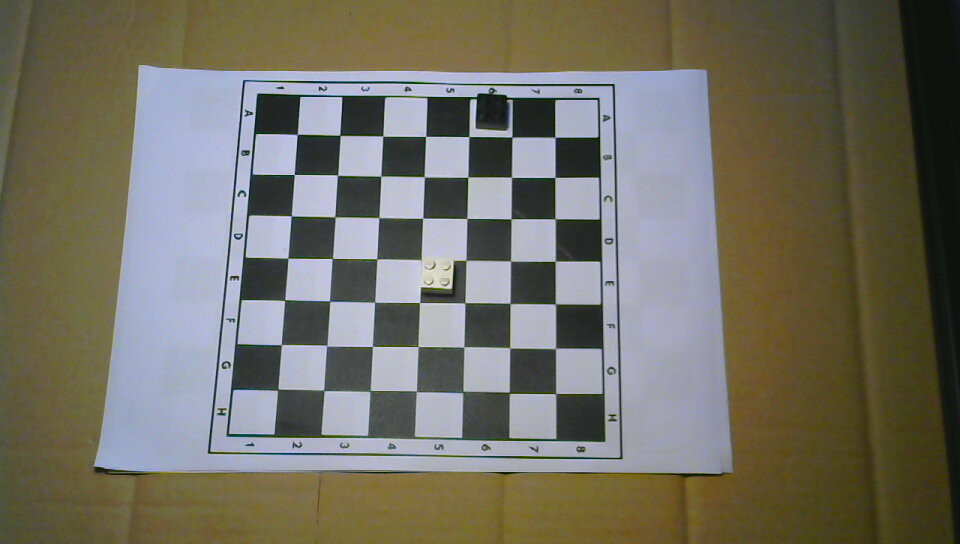bp: (475, 93, 510, 133)
wp: (419, 258, 455, 296)
